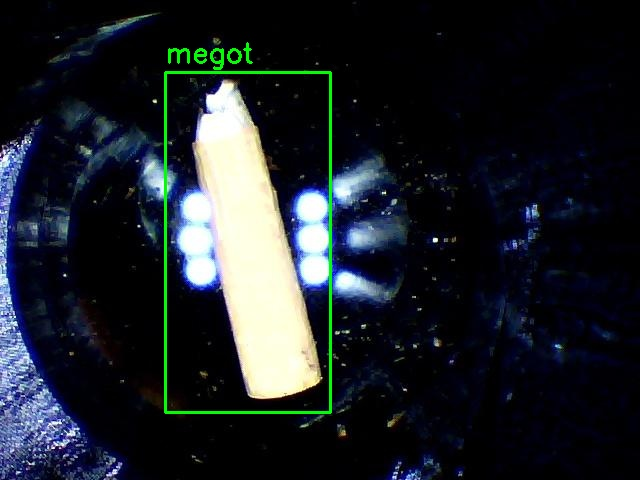megot: (165, 72, 330, 412)
